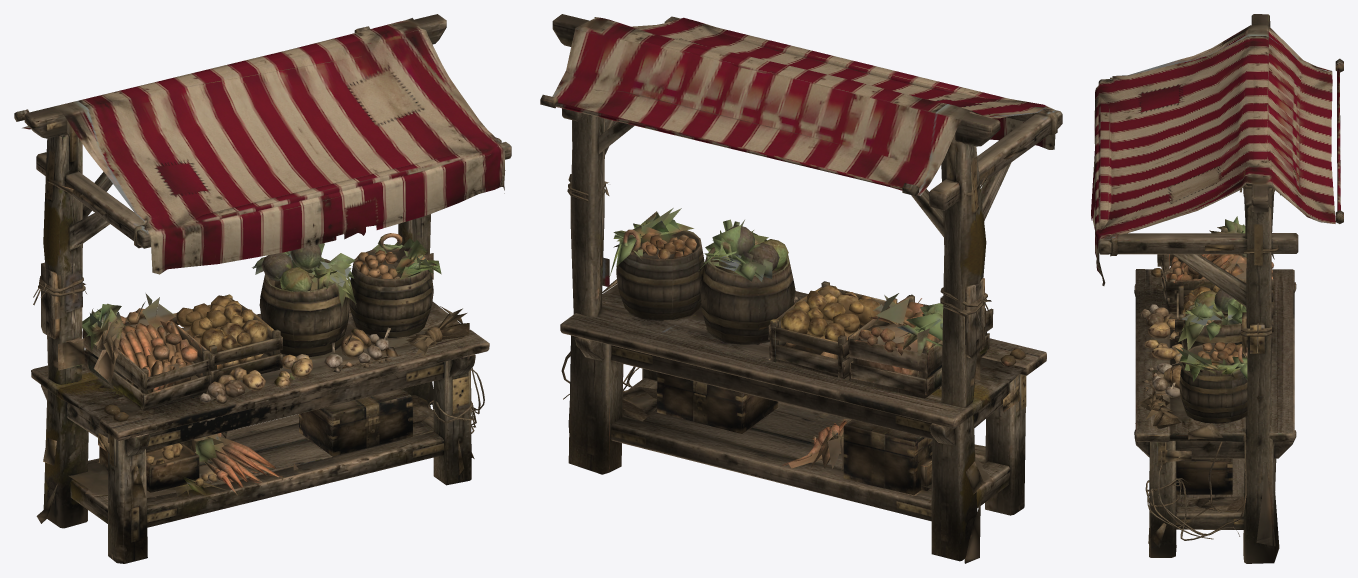
File: vil-market-stall.glb
3 renders of one model, left to right at view 1: azimuth 30°, elevation 25°; view 2: azimuth 150°, elevation 25°; view 3: azimuth 270°, elevation 25°, orthographic. The views are drawn at different scales.
Bounding box in the file's own units: 0.9575 × 0.9019 × 0.5479.
1 material, 1 textured.
